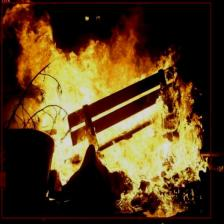fire: (1, 2, 211, 218)
